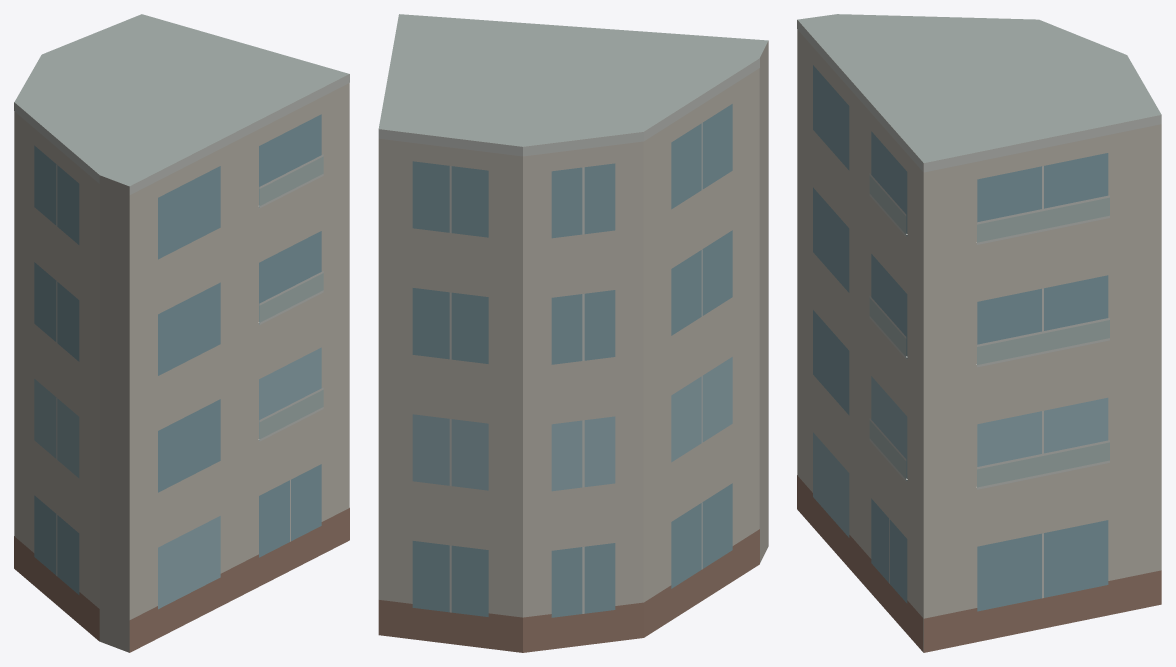
File: survey-upis-32979825.glb
The picture shows the model from 3 angles, left to right: view 1: azimuth 30°, elevation 25°; view 2: azimuth 150°, elevation 25°; view 3: azimuth 270°, elevation 25°; orthographic projection. The views are drawn at different scales.
Parts seen in each view (by area): view 1: survey-upis-32979825.tmp; view 2: survey-upis-32979825.tmp; view 3: survey-upis-32979825.tmp.
Part boxes in pixels (box(x1,y1,x2,y2)): survey-upis-32979825.tmp: box(14, 14, 349, 652); survey-upis-32979825.tmp: box(378, 14, 768, 652); survey-upis-32979825.tmp: box(797, 14, 1161, 652).
Bounding box in the file's own units: 8.37 × 12.8 × 8.65.
